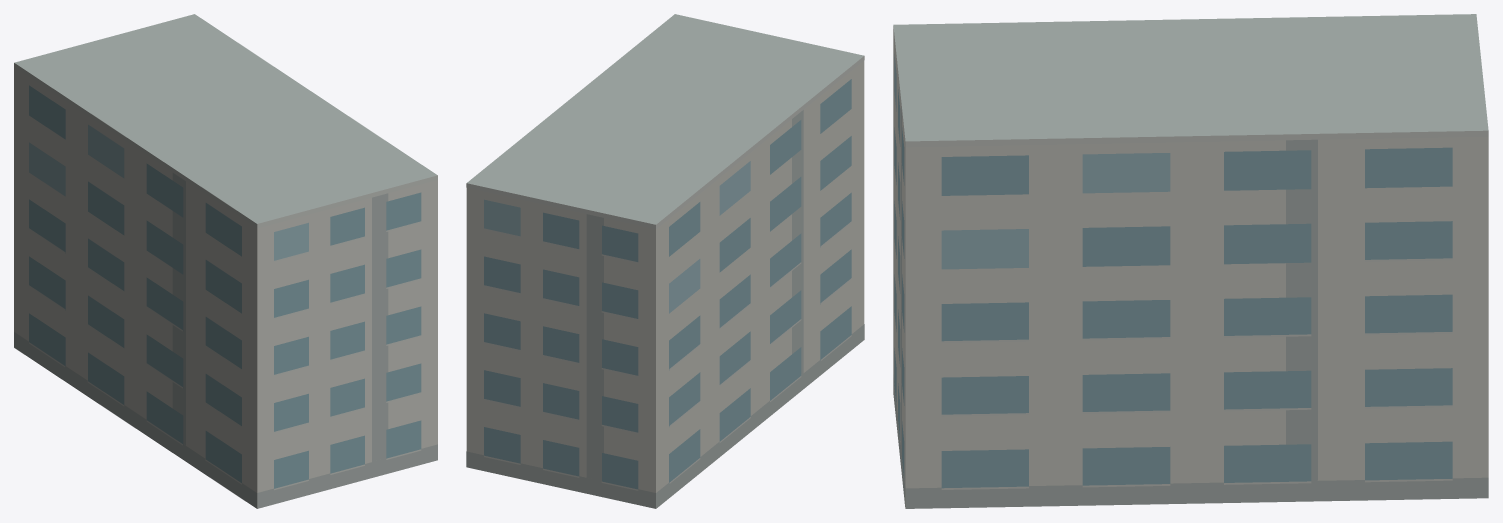
File: residential-58a11052-bcca-414a-81cd-61b76c9e3602.glb
The picture shows the model from 3 angles, left to right: view 1: azimuth 30°, elevation 25°; view 2: azimuth 150°, elevation 25°; view 3: azimuth 270°, elevation 25°; orthographic projection. The views are drawn at different scales.
Parts seen in each view (by area): view 1: residential-58a11052-bcca-414a-81cd-61b76c9e3602.tmp; view 2: residential-58a11052-bcca-414a-81cd-61b76c9e3602.tmp; view 3: residential-58a11052-bcca-414a-81cd-61b76c9e3602.tmp.
Boxes of the visible parts, x1,y1,x2,y2 form: residential-58a11052-bcca-414a-81cd-61b76c9e3602.tmp: (14,14,437,508); residential-58a11052-bcca-414a-81cd-61b76c9e3602.tmp: (466,14,864,508); residential-58a11052-bcca-414a-81cd-61b76c9e3602.tmp: (893,14,1488,508).
Bounding box in the file's own units: 11.35 × 15.25 × 22.4.
